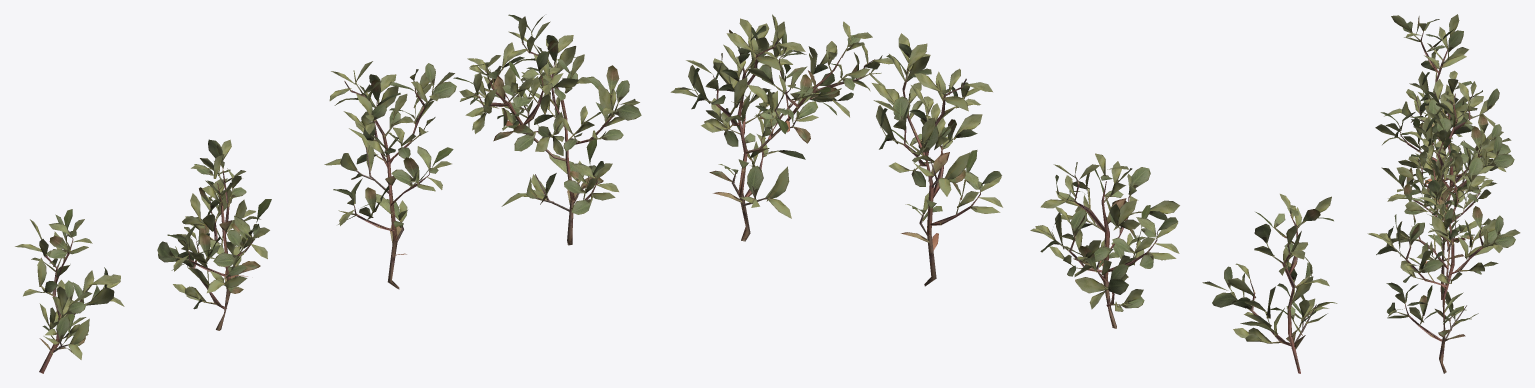
Rendered from shrub_04.glb.
3 renders of one model, left to right at view 1: azimuth 30°, elevation 25°; view 2: azimuth 150°, elevation 25°; view 3: azimuth 270°, elevation 25°, orthographic. The views are drawn at different scales.
Visible parts, largest first — view 1: shrub_04; view 2: shrub_04; view 3: shrub_04.
Part boxes in pixels (x1=…): shrub_04: x1=15, y1=14, x2=641, y2=373; shrub_04: x1=670, y1=14, x2=1337, y2=373; shrub_04: x1=1367, y1=14, x2=1520, y2=373.
Size of the model in its own units: 0.5839 by 0.2156 by 0.1477.
1 material, 1 textured.
